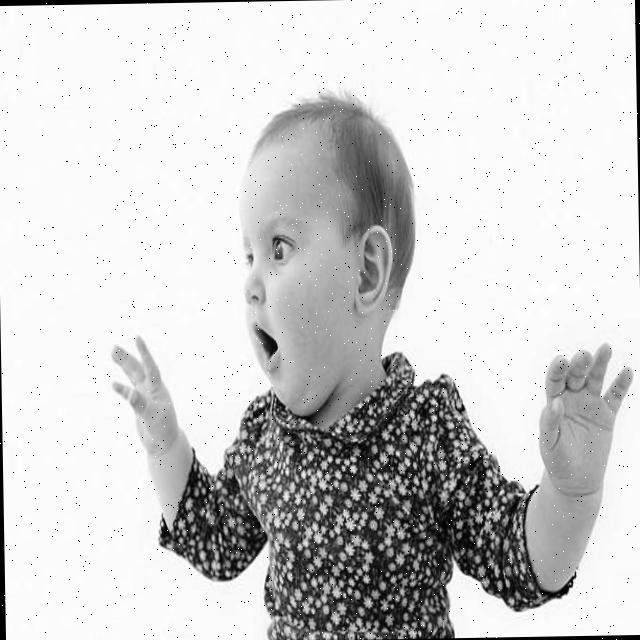Surprised: (237, 125, 357, 408)
